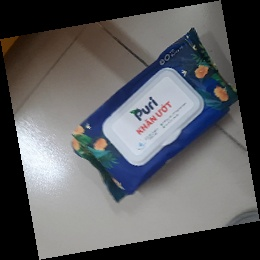Puri Xanh: (69, 26, 242, 205)
